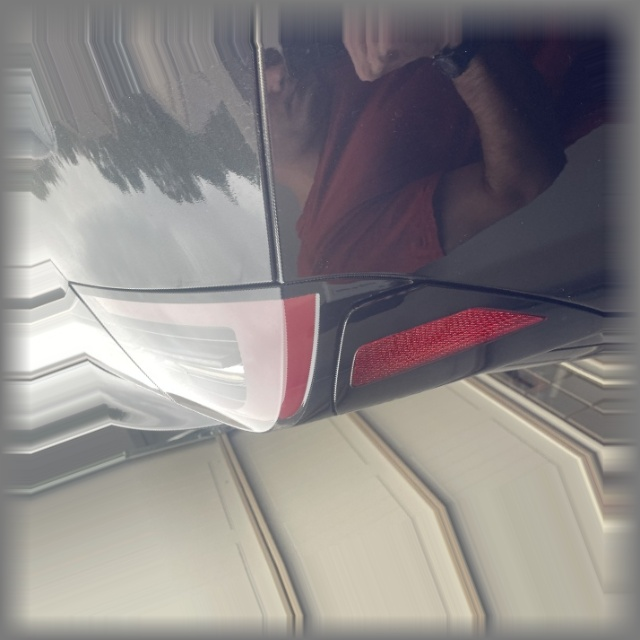reflector: (337, 281, 550, 391)
